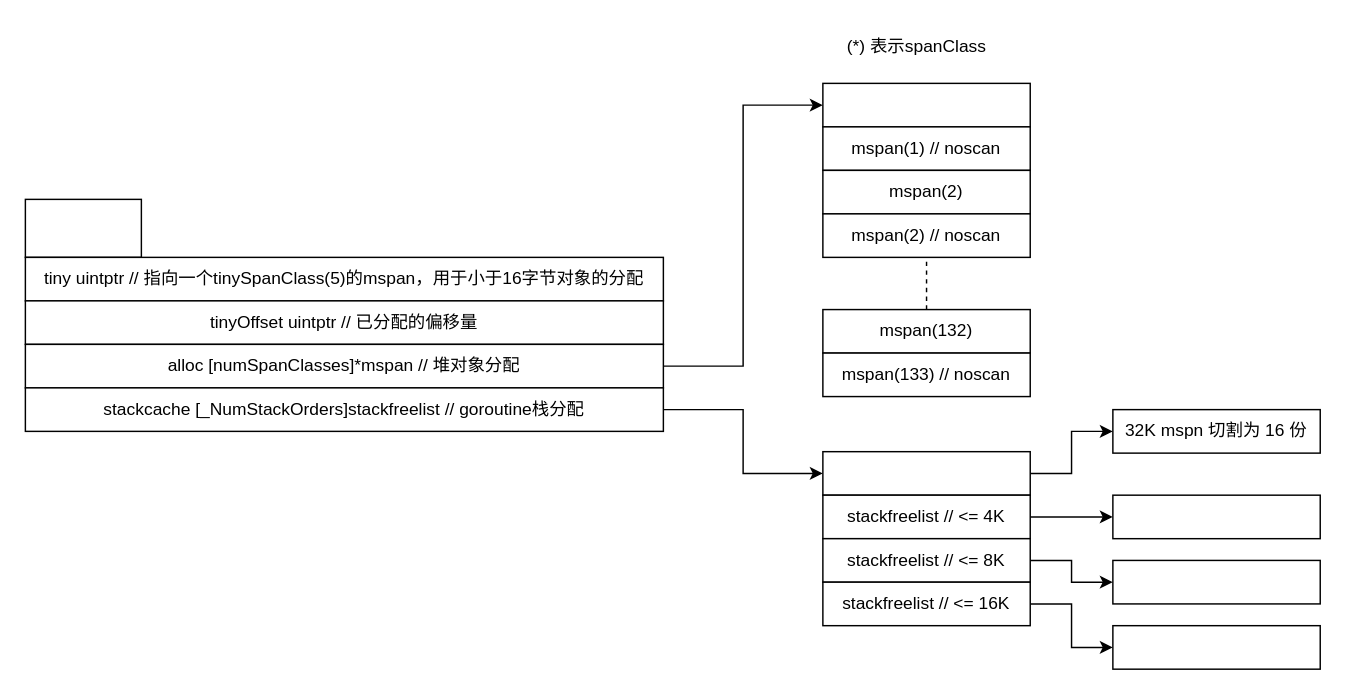
Some shapes in this 1346 by 695 pixel diagram are drawn without their labels. Here are the shapes that lost their labels. From the top down, the centre of each, then its label:
point (925, 104): mspan(1)
point (82, 227): mcache
point (925, 472): stackfreelist // <= 2K
point (1215, 516): 32K mspn 切割为 8 份
point (1215, 581): 32K mspn 切割为 4 份
point (1215, 646): 32K mspn 切割为 2 份
